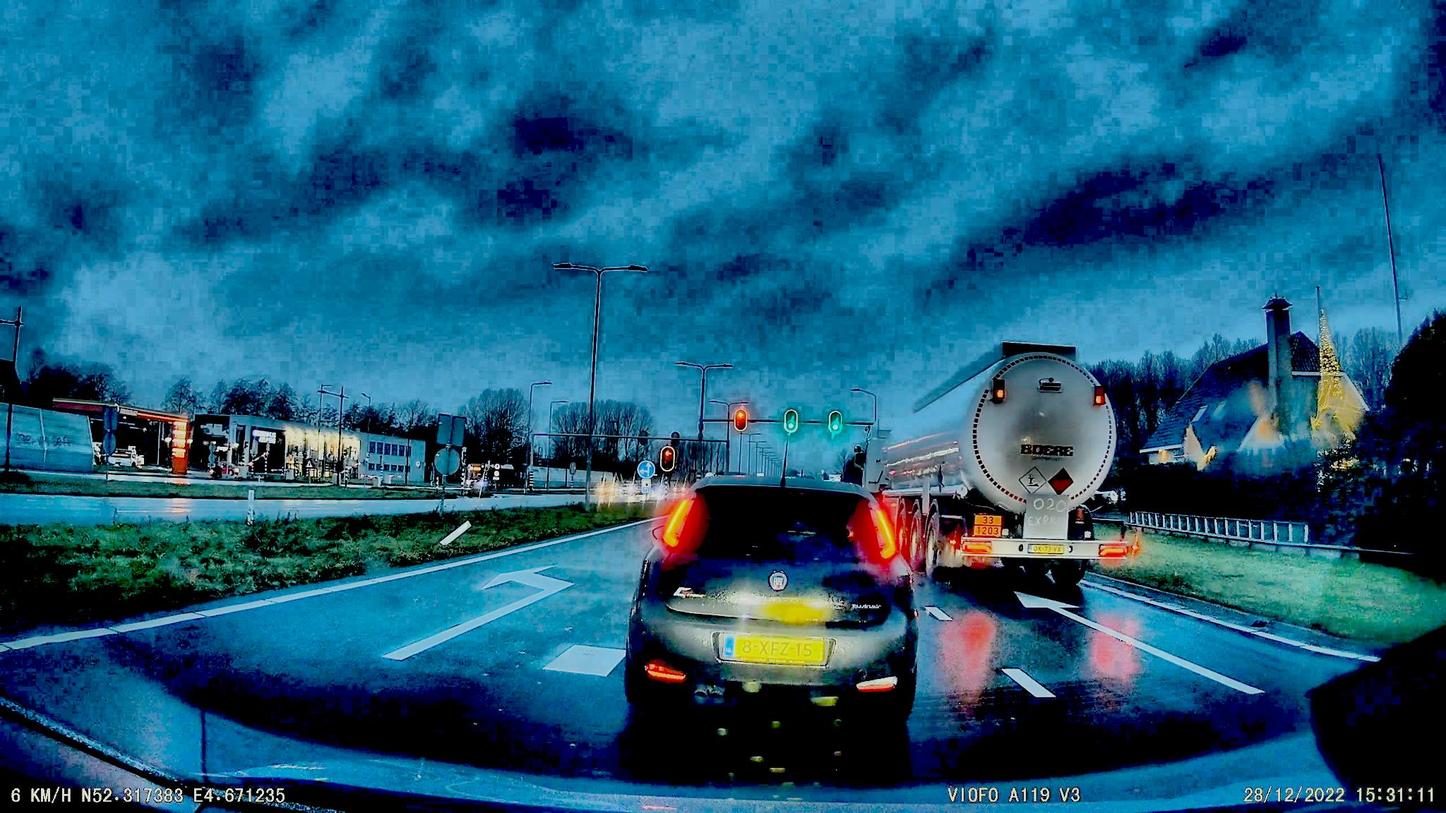Roads: (0, 524, 1356, 813)
